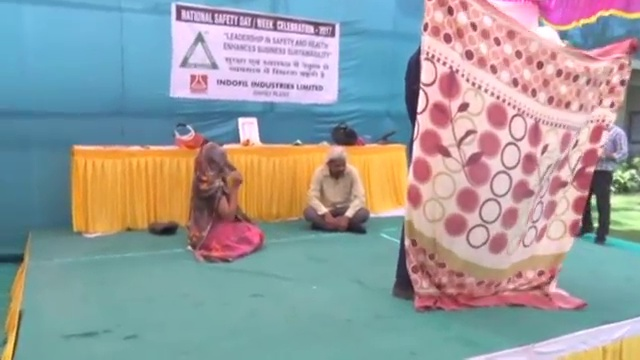helmet_off: (199, 141, 228, 172), (326, 147, 347, 177)
person: (184, 139, 261, 259), (575, 124, 628, 245), (303, 145, 371, 230)
